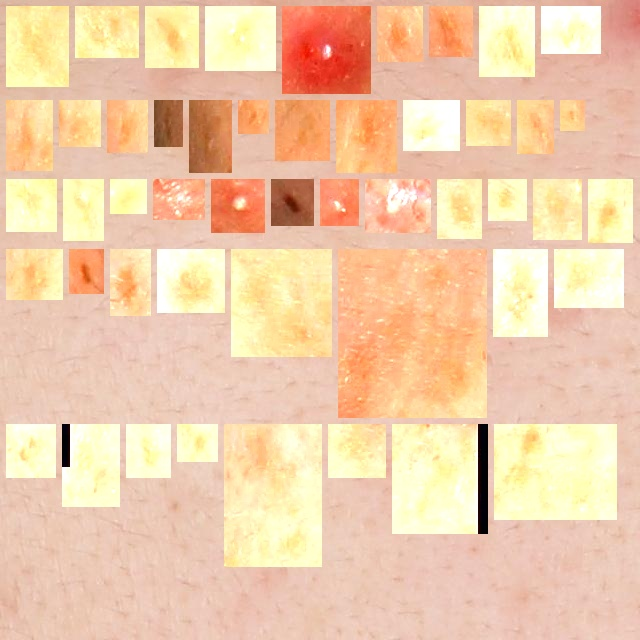hypertrophic_scar: (161, 187, 197, 212)
melasma: (346, 257, 479, 410), (232, 432, 314, 559), (502, 432, 609, 512), (239, 257, 324, 349), (400, 432, 480, 526), (14, 14, 61, 79), (70, 432, 112, 499), (501, 257, 540, 329), (213, 14, 268, 63), (344, 108, 389, 165), (165, 257, 217, 305), (562, 257, 616, 300), (487, 14, 527, 69), (283, 108, 322, 153), (153, 14, 191, 60), (83, 14, 131, 50), (14, 108, 45, 163), (336, 432, 378, 470), (197, 108, 224, 165), (541, 187, 574, 232), (411, 108, 452, 143), (14, 257, 55, 292), (549, 14, 593, 46), (596, 187, 625, 235), (14, 187, 49, 224), (14, 432, 48, 470), (445, 187, 474, 231), (118, 257, 143, 308), (385, 14, 415, 54), (71, 187, 96, 233), (134, 432, 163, 470), (437, 14, 465, 49), (115, 108, 140, 145), (474, 108, 503, 138), (67, 108, 93, 139), (525, 108, 546, 146), (496, 187, 519, 213), (185, 432, 210, 454), (162, 108, 175, 139), (118, 187, 139, 206), (246, 108, 261, 126), (568, 108, 577, 123)
nevus: (279, 187, 306, 218)
pustule: (290, 14, 363, 86), (373, 187, 423, 225), (219, 187, 257, 225), (328, 187, 351, 218)
